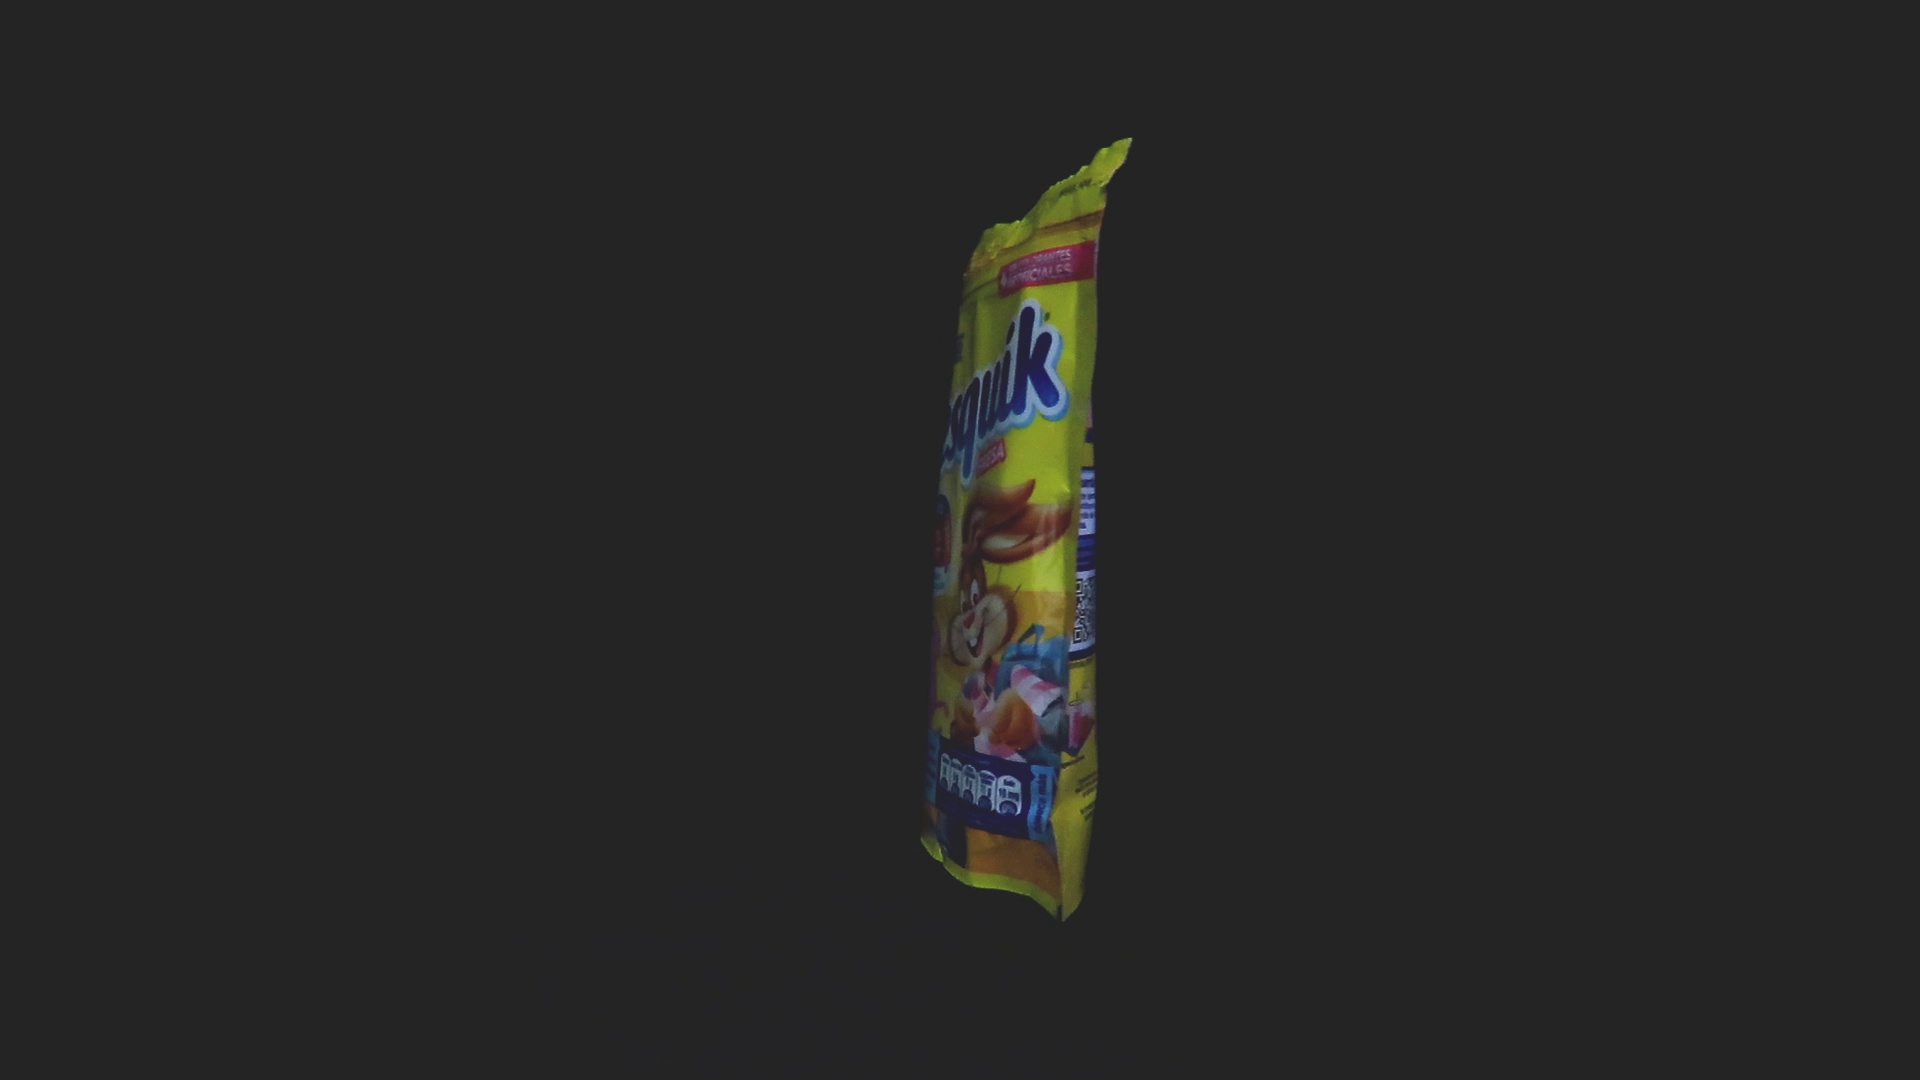COL0170305DYP20000: (915, 467, 1104, 928)
